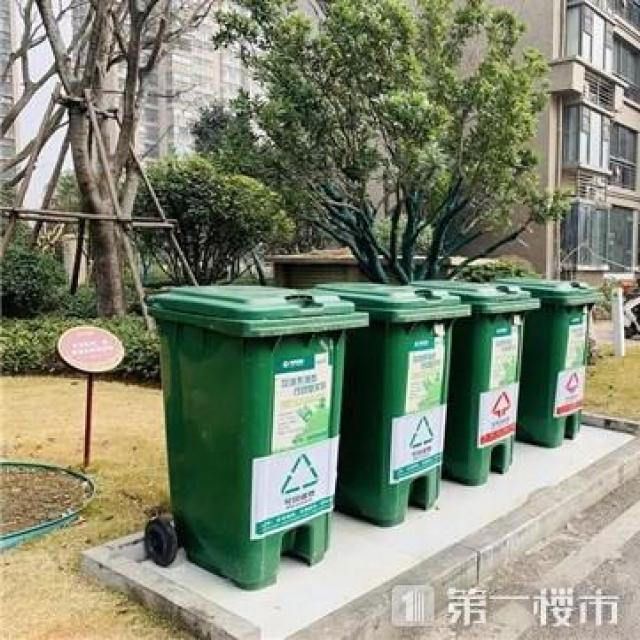garbage_bin: (140, 281, 367, 588), (310, 281, 470, 525), (406, 277, 539, 484), (494, 276, 602, 448)
